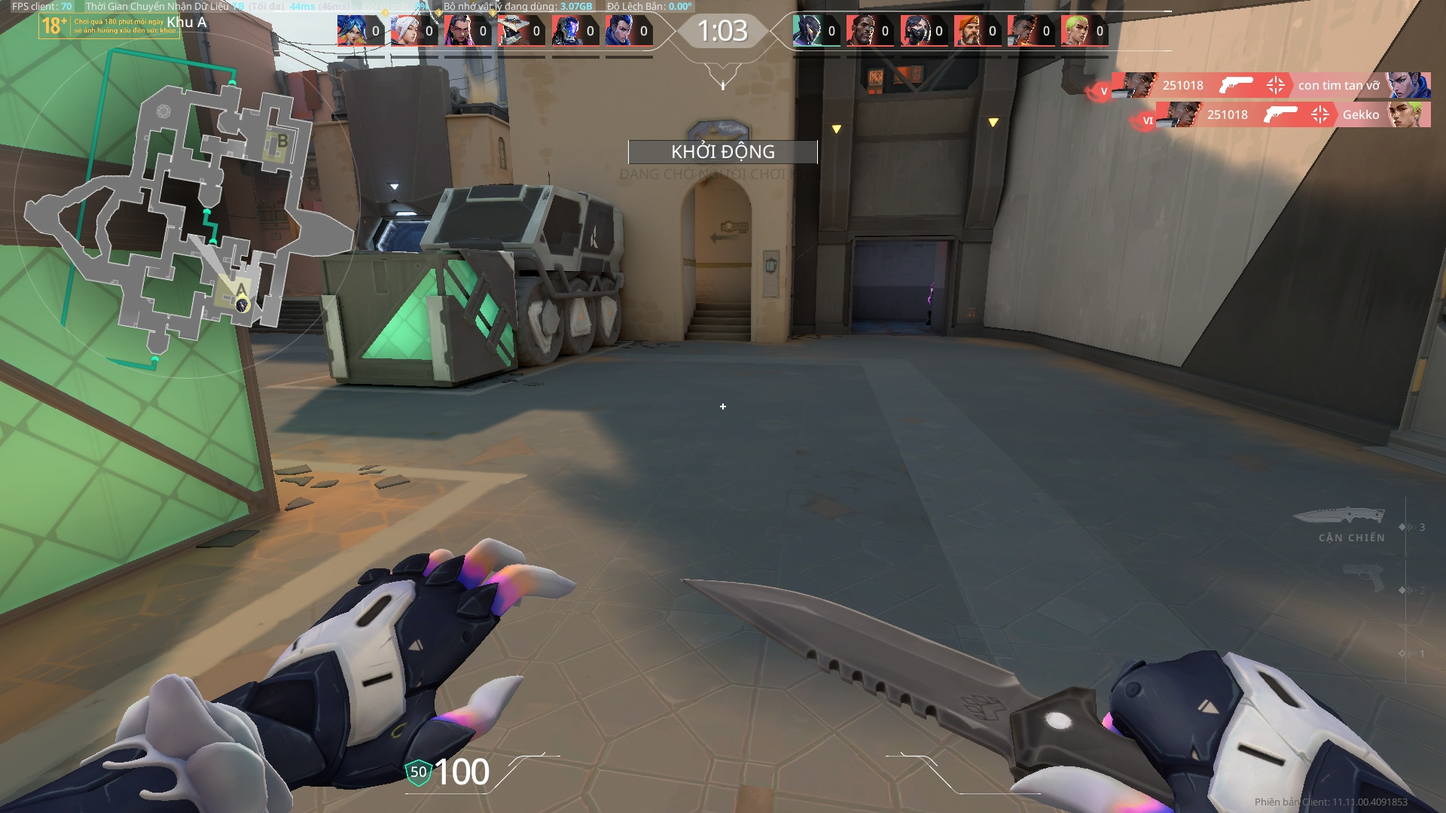body: (926, 283, 934, 303)
